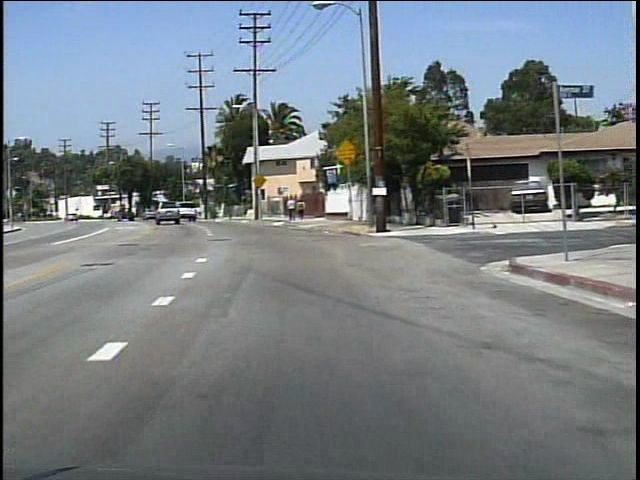person: (286, 196, 298, 223), (296, 198, 307, 222)
